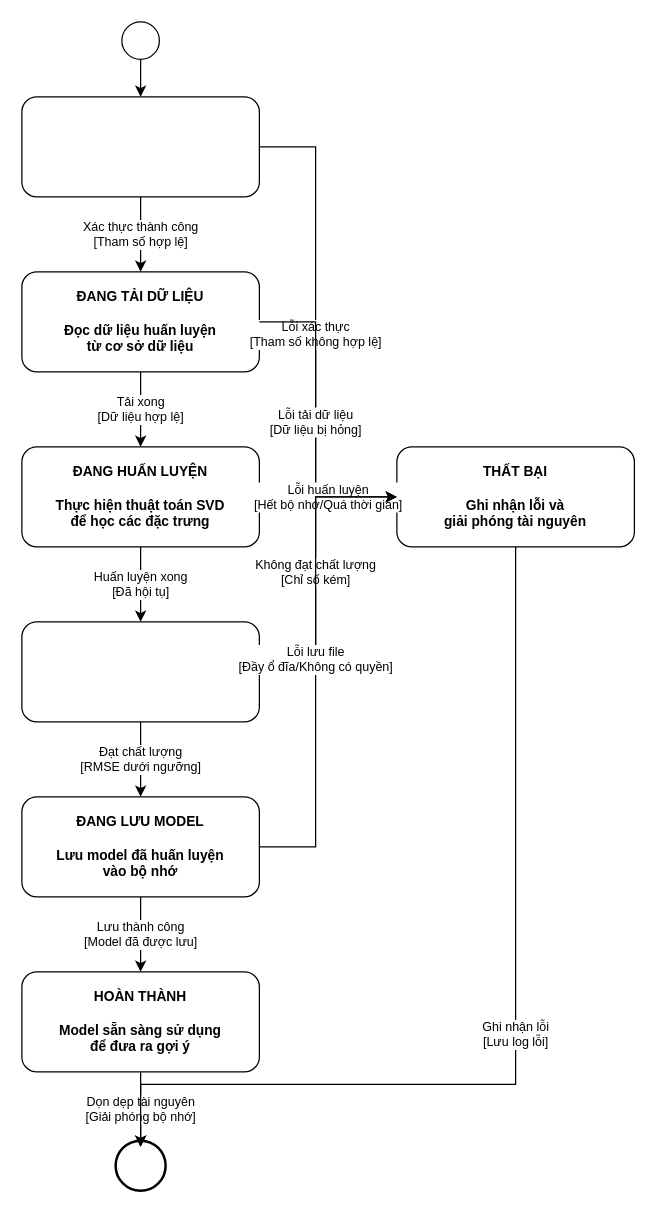
This 656x1214 diagram has some shape labels left out. The centre of each missing label's shape, as x and y in pixels:
ĐANG KHỞI TẠO Kiểm tra tham số đầu vào và chuẩn bị môi trường: the point at 140,146
ĐANG ĐÁNH GIÁ Tính toán độ chính xác và các chỉ số RMSE: the point at 140,671
